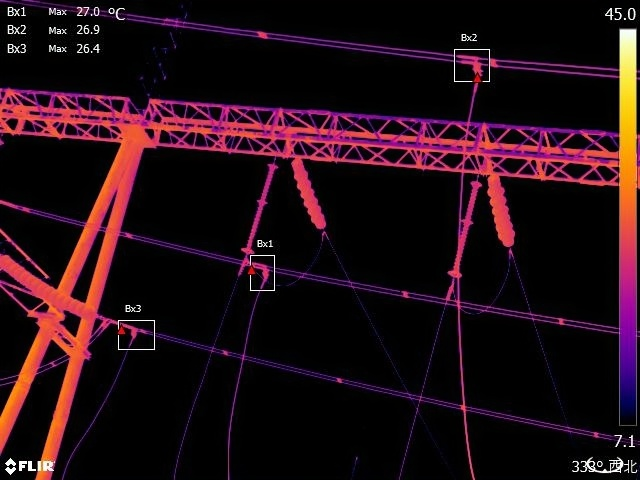clamp: (468, 50, 493, 90), (126, 319, 147, 343), (97, 313, 118, 334), (255, 264, 274, 287), (316, 223, 330, 242), (503, 246, 519, 261)
insulator: (1, 245, 97, 322), (236, 160, 280, 274), (446, 174, 486, 281), (289, 154, 328, 235), (486, 173, 521, 255)
